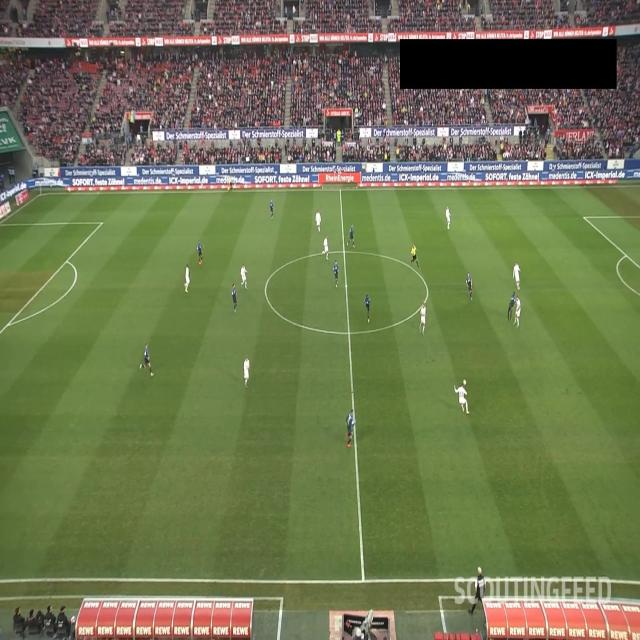ball: (463, 378, 467, 386)
